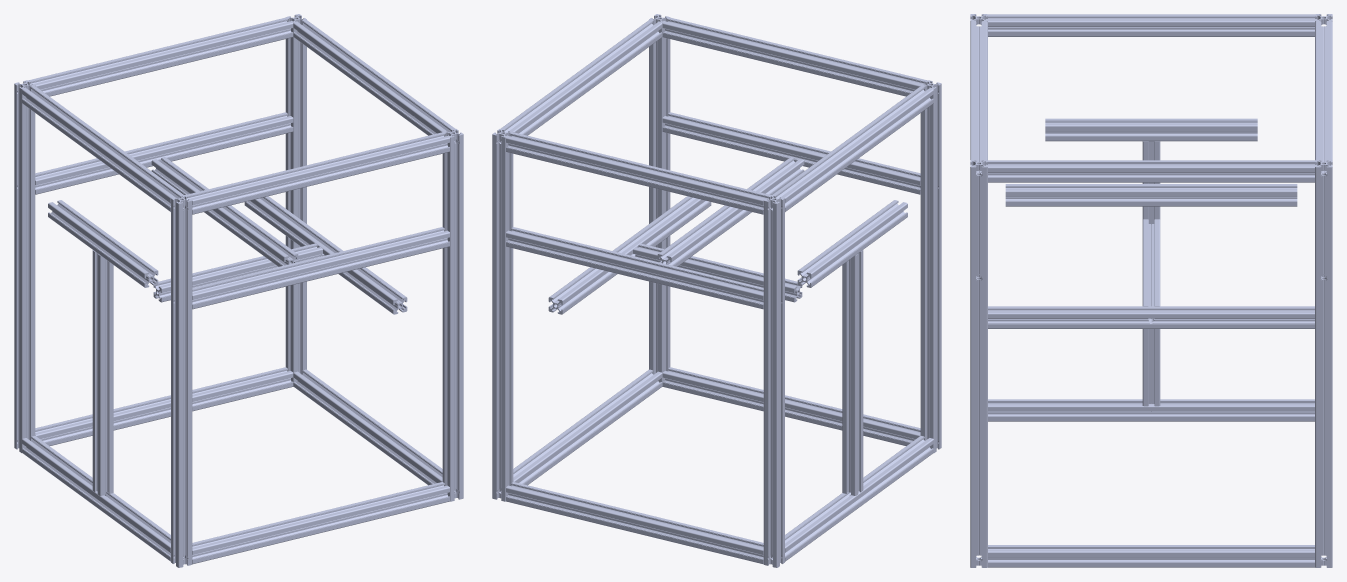
The model's file is TXLA-TXLA-VORON3-H7-250-M5.glb.
3 renders of one model, left to right at view 1: azimuth 30°, elevation 25°; view 2: azimuth 150°, elevation 25°; view 3: azimuth 270°, elevation 25°, orthographic. The views are drawn at different scales.
Parts seen in each view (by area): view 1: NAUO7, NAUO3, NAUO8, NAUO5, NAUO13, NAUO12, NAUO6, NAUO4, NAUO15, NAUO14, NAUO11, NAUO9 (+7 smaller); view 2: NAUO8, NAUO4, NAUO7, NAUO6, NAUO14, NAUO11, NAUO5, NAUO3, NAUO15, NAUO13, NAUO12, NAUO9 (+7 smaller); view 3: NAUO2, NAUO9, NAUO10, NAUO20, NAUO17, NAUO3, NAUO4, NAUO18, NAUO16, NAUO5, NAUO6, NAUO15 (+1 smaller).
Part boxes in pixels (box(x1,y1,x2,y2)): NAUO7: box(171, 195, 192, 567); NAUO3: box(442, 128, 463, 501); NAUO8: box(14, 80, 35, 452); NAUO5: box(185, 132, 449, 214); NAUO13: box(192, 227, 449, 309); NAUO12: box(192, 482, 449, 564); NAUO6: box(29, 17, 293, 96); NAUO4: box(285, 14, 306, 382); NAUO15: box(92, 250, 113, 495); NAUO14: box(35, 112, 293, 194); NAUO11: box(35, 367, 293, 445); NAUO9: box(22, 86, 183, 211); NAUO8: box(763, 195, 784, 567); NAUO4: box(492, 128, 513, 501); NAUO7: box(920, 80, 941, 452); NAUO6: box(506, 132, 770, 214); NAUO14: box(506, 227, 763, 309); NAUO11: box(506, 482, 763, 564); NAUO5: box(662, 17, 926, 96); NAUO3: box(649, 14, 670, 382); NAUO15: box(842, 250, 863, 495); NAUO13: box(662, 112, 920, 194); NAUO12: box(662, 367, 920, 445); NAUO9: box(772, 86, 933, 211); NAUO2: box(988, 160, 1314, 182); NAUO9: box(988, 14, 1314, 36); NAUO10: box(988, 545, 1314, 567); NAUO20: box(988, 306, 1314, 328); NAUO17: box(988, 399, 1314, 421); NAUO3: box(970, 159, 987, 567); NAUO4: box(1315, 159, 1332, 567); NAUO18: box(1005, 184, 1297, 206); NAUO16: box(1045, 118, 1257, 141); NAUO5: box(970, 21, 987, 170); NAUO6: box(1315, 21, 1332, 170); NAUO15: box(1142, 141, 1160, 406).
Size of the model in its own units: 0.41 by 0.5 by 0.41.
